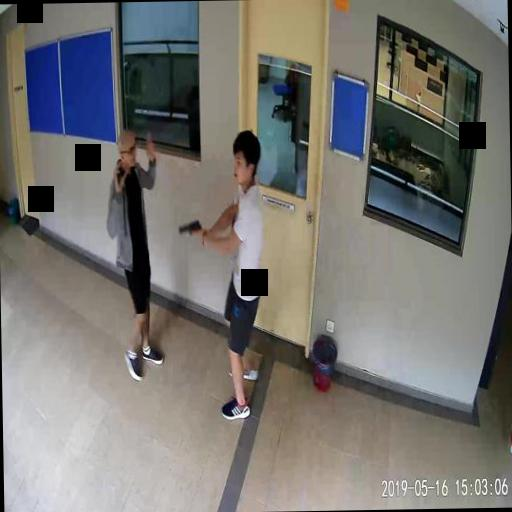Handgun: (174, 214, 205, 246)
